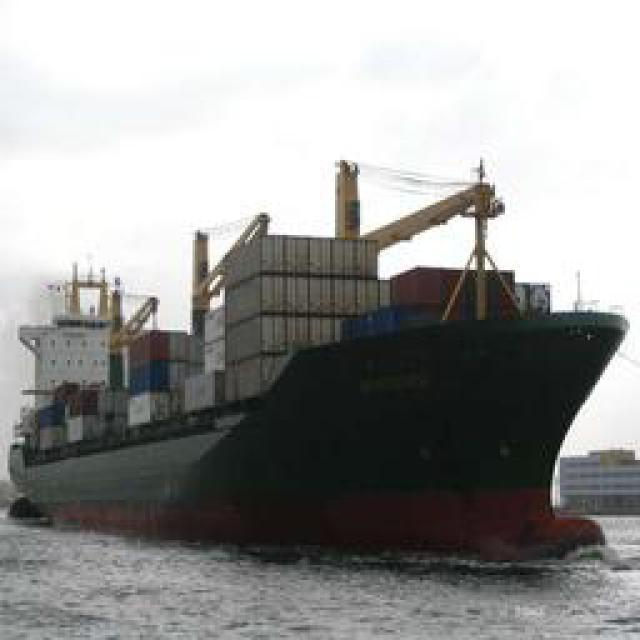Ship: (60, 283, 630, 558)
